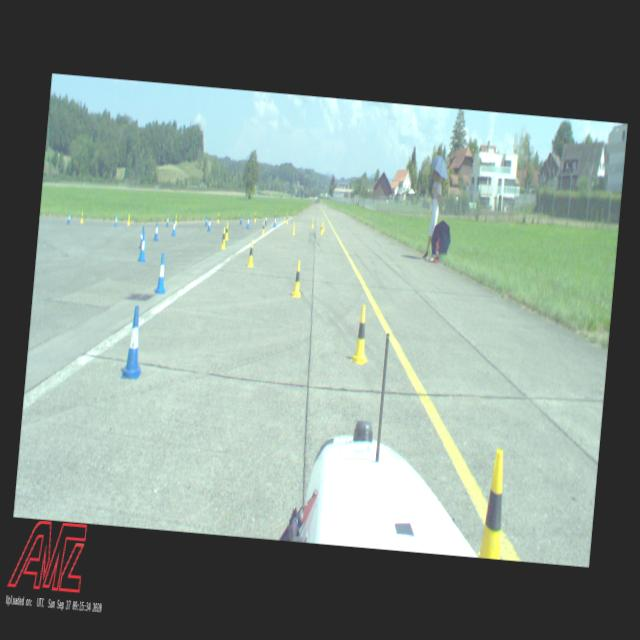blue_cone: (120, 305, 147, 380), (155, 253, 168, 293), (137, 233, 147, 262), (138, 225, 146, 249), (152, 222, 160, 240), (170, 218, 177, 236), (206, 218, 212, 232), (66, 211, 71, 224), (113, 214, 118, 226), (165, 214, 169, 227), (246, 216, 250, 228), (273, 214, 277, 226), (264, 213, 267, 224), (239, 214, 242, 224), (205, 215, 208, 225)
yellow_cone: (476, 448, 509, 560), (350, 304, 372, 364), (292, 260, 304, 298), (246, 240, 255, 266), (220, 226, 228, 248), (224, 221, 230, 239), (261, 220, 266, 236), (80, 210, 84, 222), (320, 222, 324, 234), (292, 222, 296, 234), (285, 212, 288, 224), (175, 213, 178, 225), (217, 212, 220, 223), (127, 214, 130, 225), (322, 220, 325, 231), (311, 218, 314, 228), (254, 212, 256, 222)
